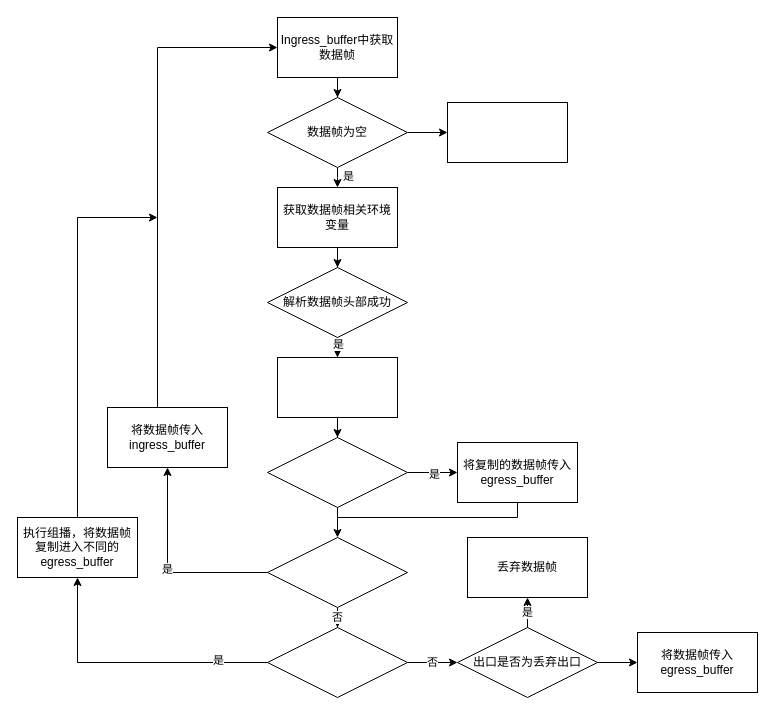
This 775x715 diagram has some shape labels left out. Each missing label, with the centre of its shape:
执行Ingress流水线: the point at 337,387
是否执行包复制: the point at 337,472
是否执行包重传: the point at 337,572
是否执行组播: the point at 337,662
线程终止退出: the point at 507,132
